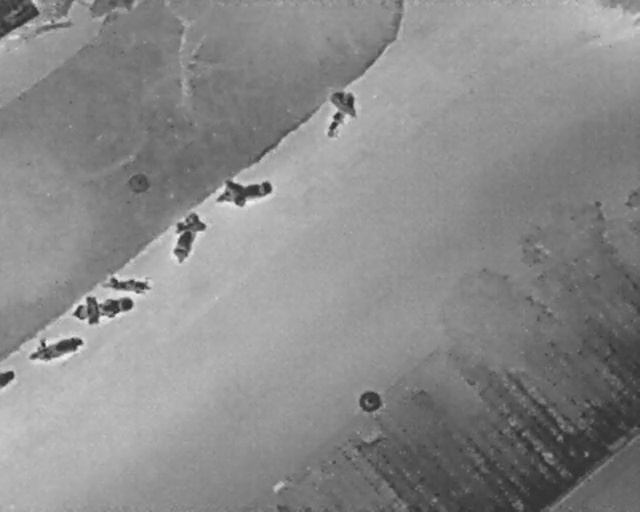Bicycle: (311, 81, 369, 147), (68, 284, 139, 330), (210, 165, 275, 214), (160, 206, 211, 267), (21, 324, 89, 369), (101, 271, 154, 296), (0, 368, 15, 391)
